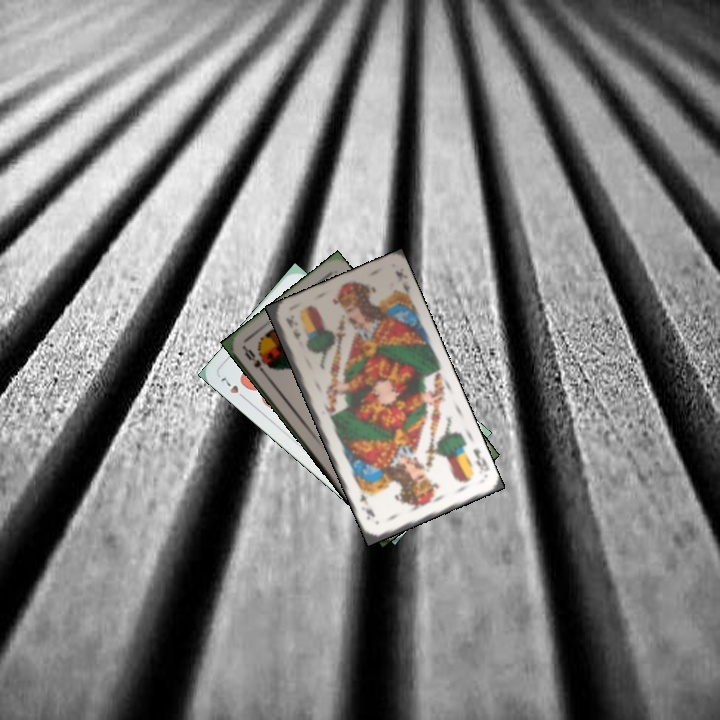EK: (281, 312, 303, 343), (469, 445, 491, 473)
H7: (216, 373, 250, 403)
SO: (240, 343, 269, 379)
